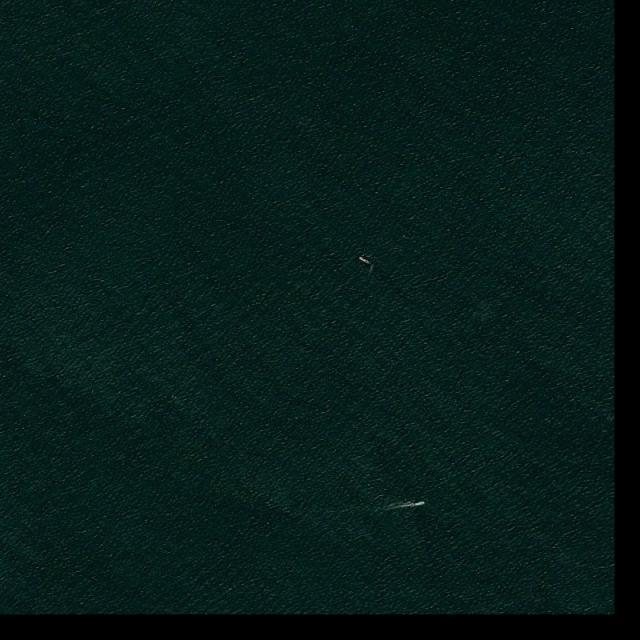ship: (358, 256, 370, 264), (409, 502, 426, 507)
